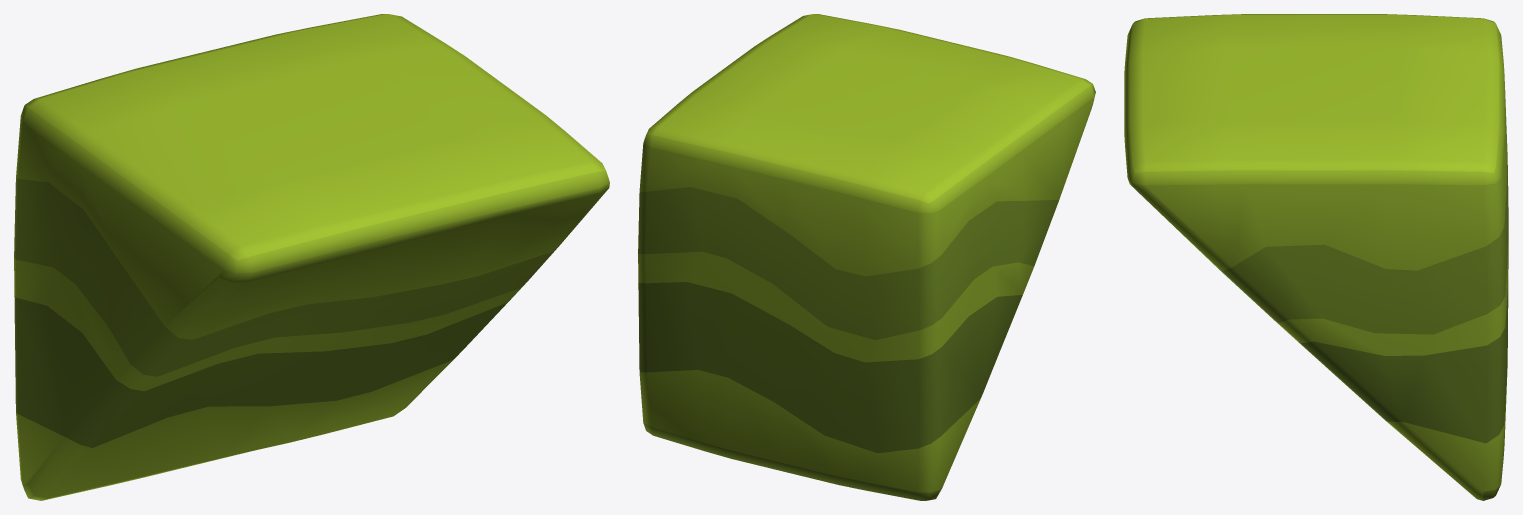
Rendered from Grass_SlopeUnder.fbx.
3 renders of one model, left to right at view 1: azimuth 30°, elevation 25°; view 2: azimuth 150°, elevation 25°; view 3: azimuth 270°, elevation 25°, orthographic. The views are drawn at different scales.
Parts seen in each view (by area): view 1: Grass_SlopeUnder_LOD0; view 2: Grass_SlopeUnder_LOD0; view 3: Grass_SlopeUnder_LOD0.
Part boxes in pixels (box(x1,y1,x2,y2)): Grass_SlopeUnder_LOD0: box(14, 14, 609, 500); Grass_SlopeUnder_LOD0: box(638, 14, 1095, 500); Grass_SlopeUnder_LOD0: box(1124, 14, 1508, 500).
Size of what is drawn, in the model's own units: 1.08 by 1.07 by 1.07.
